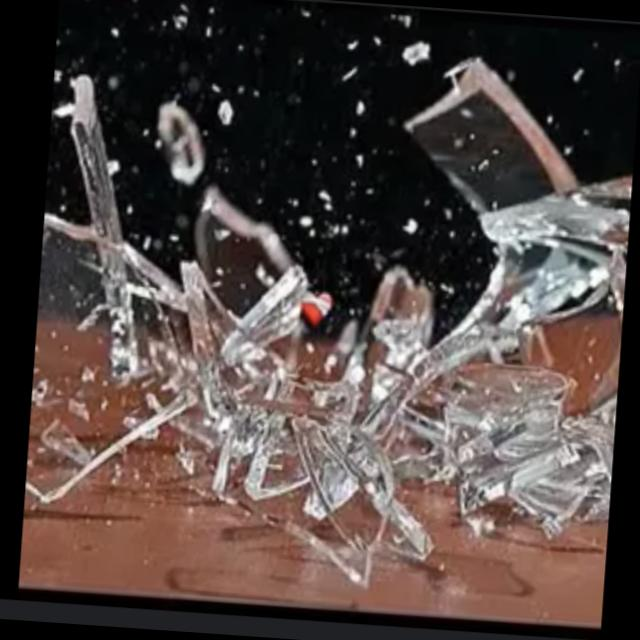PecahanKaca: (21, 32, 640, 604), (140, 96, 348, 340)
